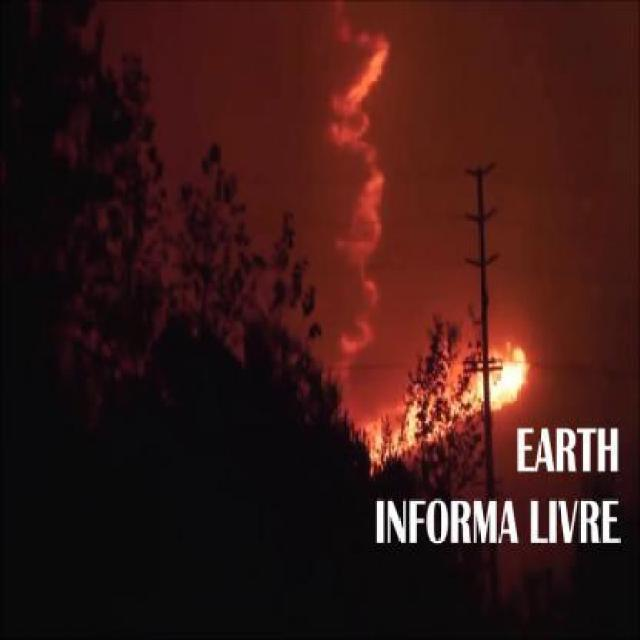Fire: (358, 333, 526, 473), (350, 182, 384, 336), (346, 32, 389, 112)
